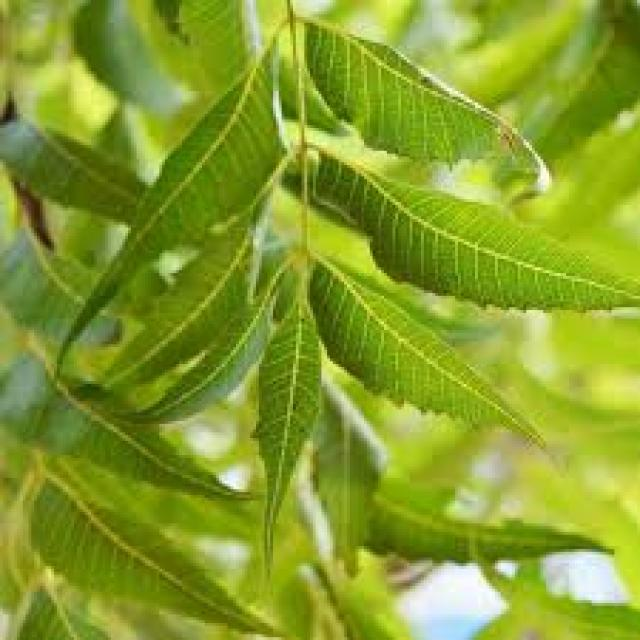healthy_leaf: (79, 50, 594, 538)
